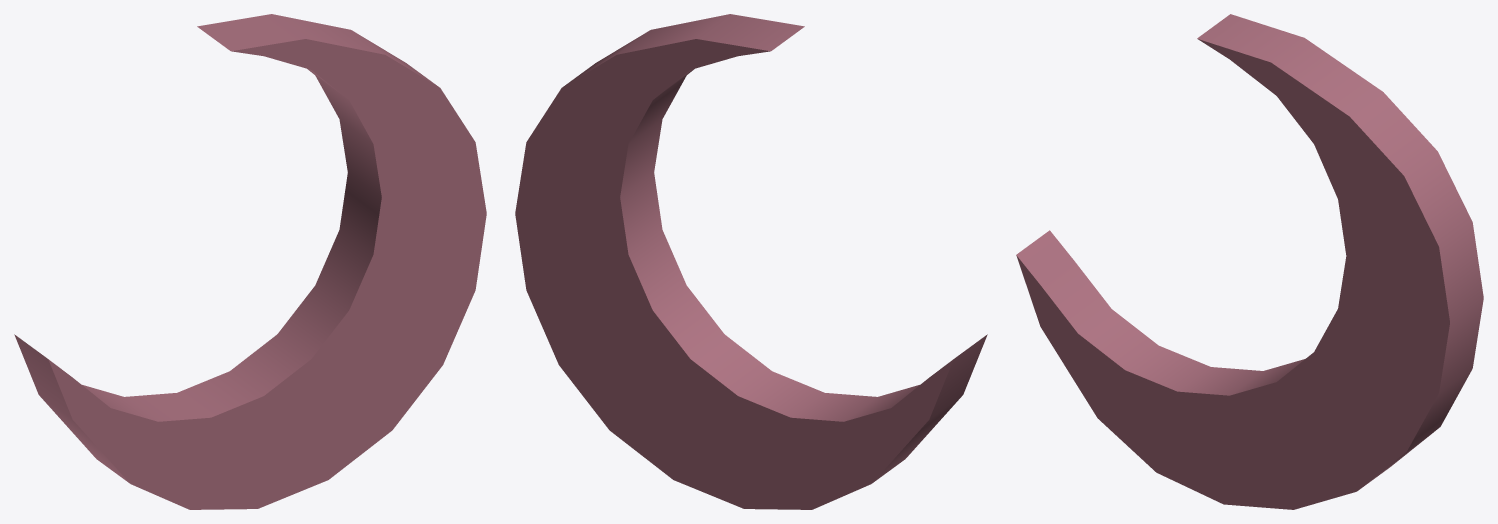
The model's file is 02 moon.FBX.
3 views of the same model, side by side, from view 1: azimuth 30°, elevation 25°; view 2: azimuth 150°, elevation 25°; view 3: azimuth 330°, elevation 25° (orthographic).
Visible parts, largest first — view 1: SM_Icon_Weather_Moon_01; view 2: SM_Icon_Weather_Moon_01; view 3: SM_Icon_Weather_Moon_01.
Boxes of the visible parts, <box> form: SM_Icon_Weather_Moon_01: <box>14,14,486,509</box>; SM_Icon_Weather_Moon_01: <box>515,14,987,509</box>; SM_Icon_Weather_Moon_01: <box>1016,14,1483,509</box>.
Size of the model in its own units: 36.66 by 37.08 by 4.93.
